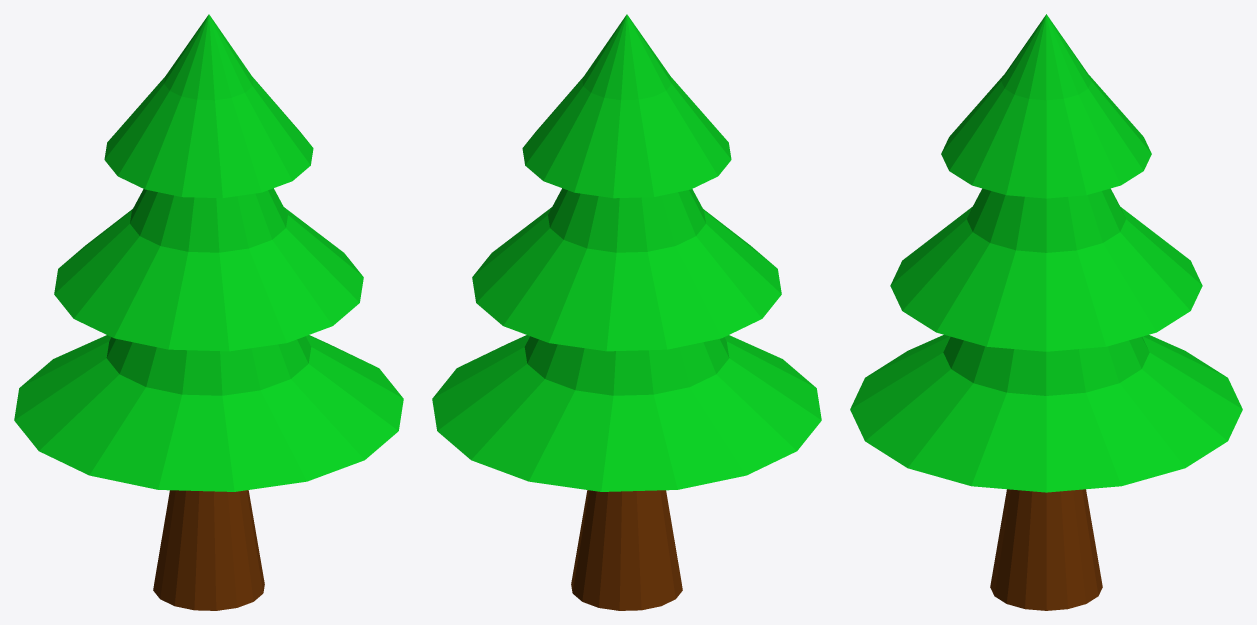
File: Tree.fbx
3 renders of one model, left to right at view 1: azimuth 30°, elevation 25°; view 2: azimuth 150°, elevation 25°; view 3: azimuth 270°, elevation 25°, orthographic.
Visible parts, largest first — view 1: Tree; view 2: Tree; view 3: Tree.
Boxes of the visible parts, x1,y1,x2,y2 form: Tree: [14, 14, 403, 610]; Tree: [432, 14, 821, 610]; Tree: [850, 14, 1242, 610].
Bounding box in the file's own units: 349 × 561 × 349.
